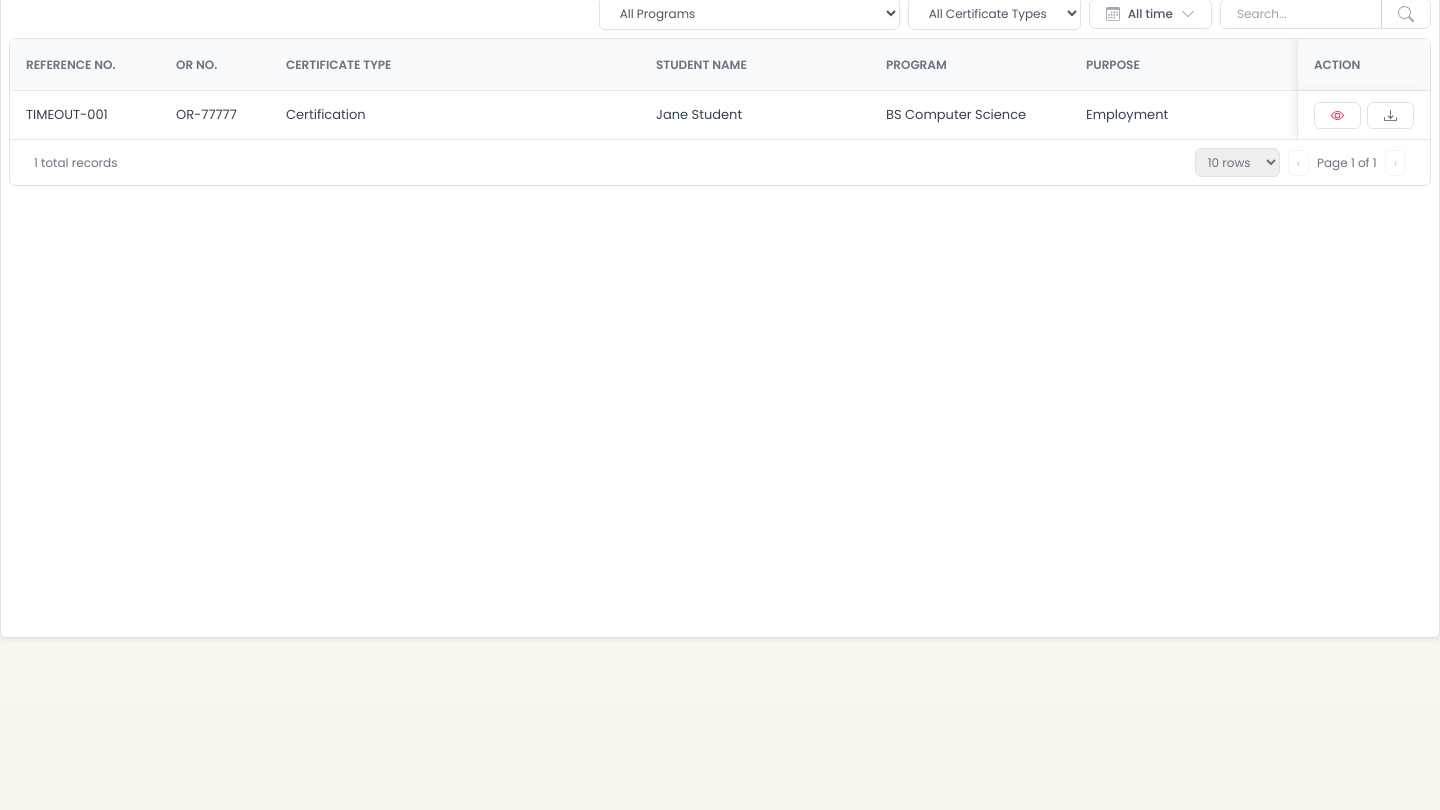
Test: Thesis CERTIFY functional and error-handling cases › EH-008 shows an error when certificate retrieval times out during preview
What coordinates should you click on to do the following:
click the button titled "preview certificate"
I would click on:
 (1338, 115)
Its box is [1314, 102, 1361, 128].
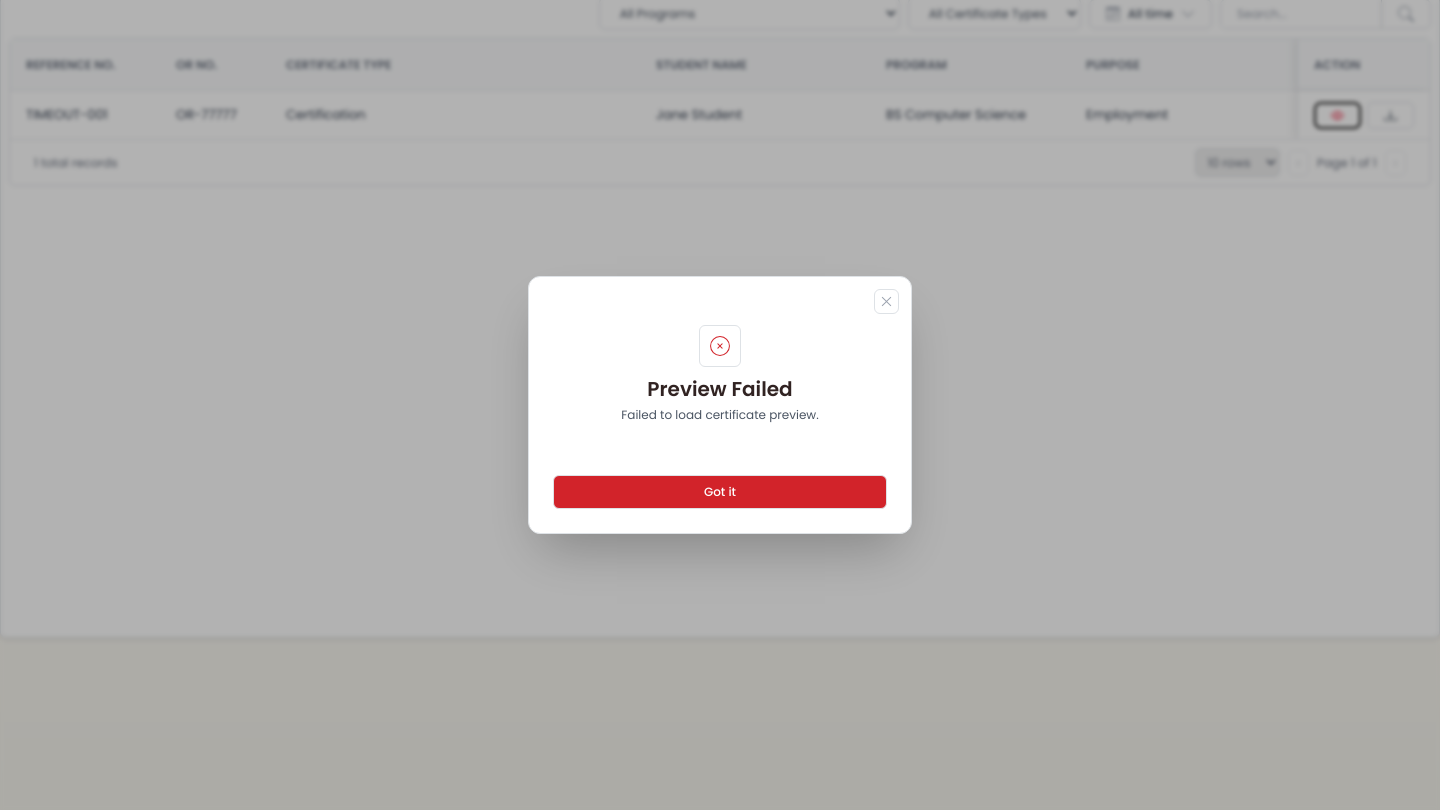
Now the heading "Preview Failed" is shown, box [647, 375, 793, 403]
Now the text "Failed to load certificate preview." is shown, box [621, 406, 819, 423]
